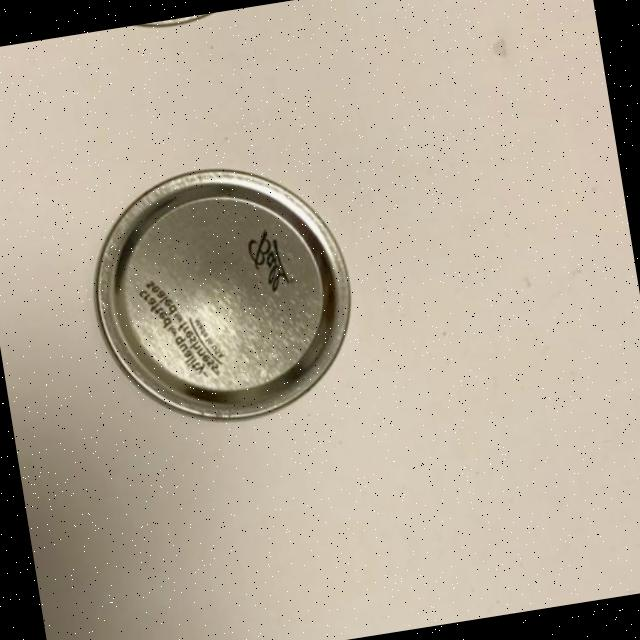Metal: (66, 142, 376, 454), (43, 0, 312, 51)
